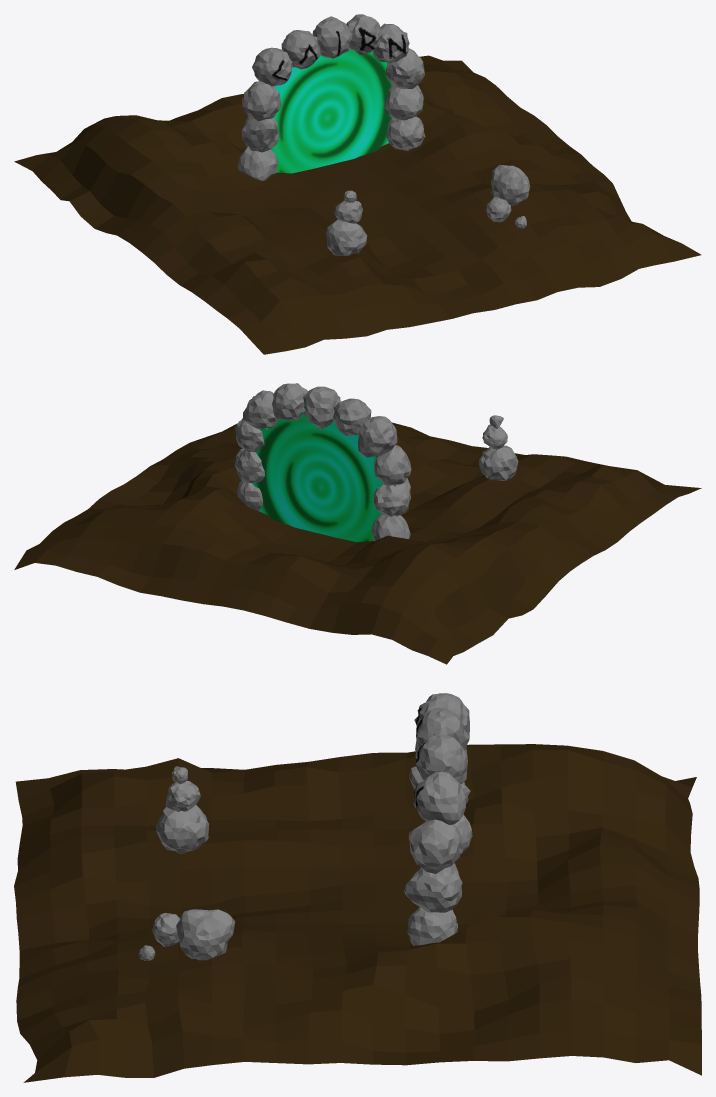
The model's file is Cairn-Booth_Knar.glb.
3 renders of one model, top to bottom at view 1: azimuth 30°, elevation 25°; view 2: azimuth 150°, elevation 25°; view 3: azimuth 270°, elevation 25°, orthographic. The views are drawn at different scales.
Visible parts, largest first — view 1: Plane, Circle, Icosphere.006, Icosphere.010, Icosphere.014, Icosphere.013, Icosphere.003, Icosphere.012, Icosphere.009, Icosphere.008, Icosphere.015, Icosphere.007 (+4 smaller); view 2: Plane, Circle, Icosphere.010, Icosphere.014, Icosphere.013, Icosphere.003, Icosphere.015, Icosphere.016, Icosphere.012, Icosphere.017, Icosphere.009, Icosphere.011 (+3 smaller); view 3: Plane, Icosphere.006, Icosphere.008, Icosphere.017, Icosphere.009, Icosphere.003, Icosphere.015, Icosphere.007, Icosphere.014, Icosphere.001, Icosphere.012, Icosphere.005.
Part boxes in pixels (x1,y1,x2,y2): Plane: [14, 55, 701, 354]; Circle: [270, 36, 392, 173]; Icosphere.006: [490, 164, 530, 205]; Icosphere.010: [252, 47, 292, 86]; Icosphere.014: [312, 16, 351, 58]; Icosphere.013: [242, 81, 280, 121]; Icosphere.003: [325, 219, 367, 255]; Icosphere.012: [281, 30, 320, 69]; Icosphere.009: [384, 85, 423, 120]; Icosphere.008: [385, 48, 424, 88]; Icosphere.015: [346, 14, 382, 54]; Icosphere.007: [386, 116, 425, 150]; Plane: [14, 422, 701, 664]; Circle: [246, 406, 397, 542]; Icosphere.010: [358, 416, 397, 457]; Icosphere.014: [303, 386, 340, 429]; Icosphere.013: [373, 445, 411, 485]; Icosphere.003: [479, 445, 518, 480]; Icosphere.015: [272, 383, 307, 420]; Icosphere.016: [373, 478, 410, 516]; Icosphere.012: [333, 398, 371, 435]; Icosphere.017: [243, 390, 277, 429]; Icosphere.009: [234, 448, 264, 482]; Icosphere.011: [372, 514, 410, 541]; Plane: [14, 744, 701, 1082]; Icosphere.006: [176, 909, 235, 960]; Icosphere.008: [408, 819, 461, 873]; Icosphere.017: [413, 771, 465, 824]; Icosphere.009: [404, 863, 462, 912]; Icosphere.003: [156, 805, 209, 854]; Icosphere.015: [416, 734, 467, 783]; Icosphere.007: [407, 907, 457, 945]; Icosphere.014: [416, 708, 468, 749]; Icosphere.001: [165, 780, 200, 811]; Icosphere.012: [414, 694, 468, 731]; Icosphere.005: [152, 913, 180, 946].
Bounding box in the file's own units: 14.42 × 5.8 × 14.48.
Materials: 4 (2 with a texture image).
